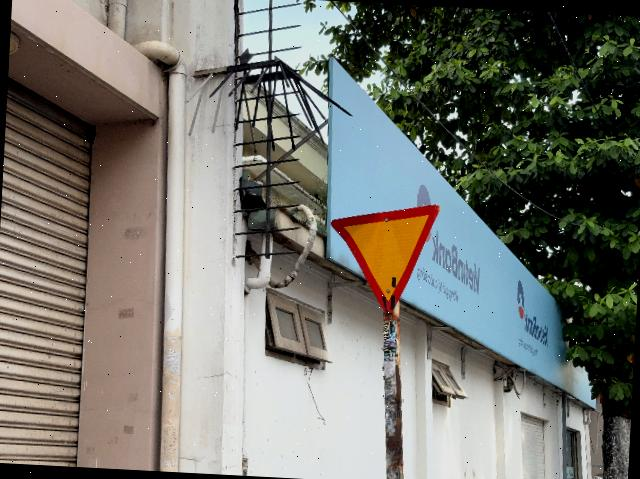giao-nhau-voi-duong-uu-tien: (325, 198, 440, 316)
